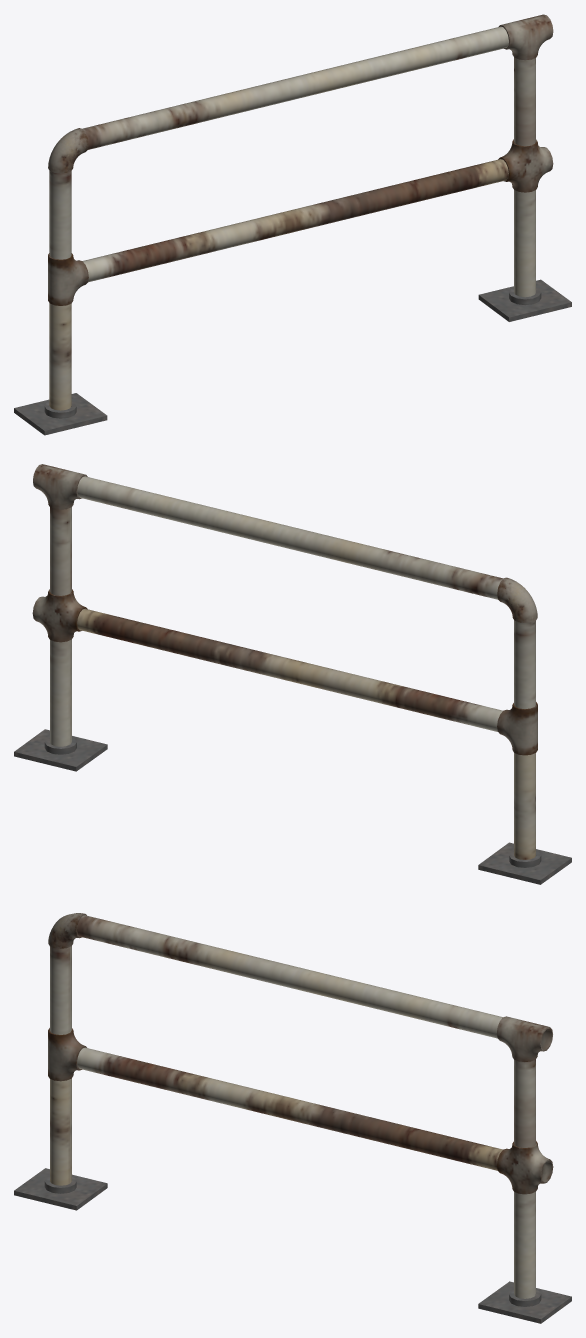
Rendered from metal_fence_start.fbx.
3 renders of one model, top to bottom at view 1: azimuth 30°, elevation 25°; view 2: azimuth 150°, elevation 25°; view 3: azimuth 330°, elevation 25°, orthographic.
Visible parts, largest first — view 1: metal_fence_start; view 2: metal_fence_start; view 3: metal_fence_start.
Boxes of the visible parts, x1,y1,x2,y2 form: metal_fence_start: (14, 14, 571, 435); metal_fence_start: (14, 464, 571, 884); metal_fence_start: (14, 913, 571, 1323).
Bounding box in the file's own units: 228 × 117 × 23.17.
